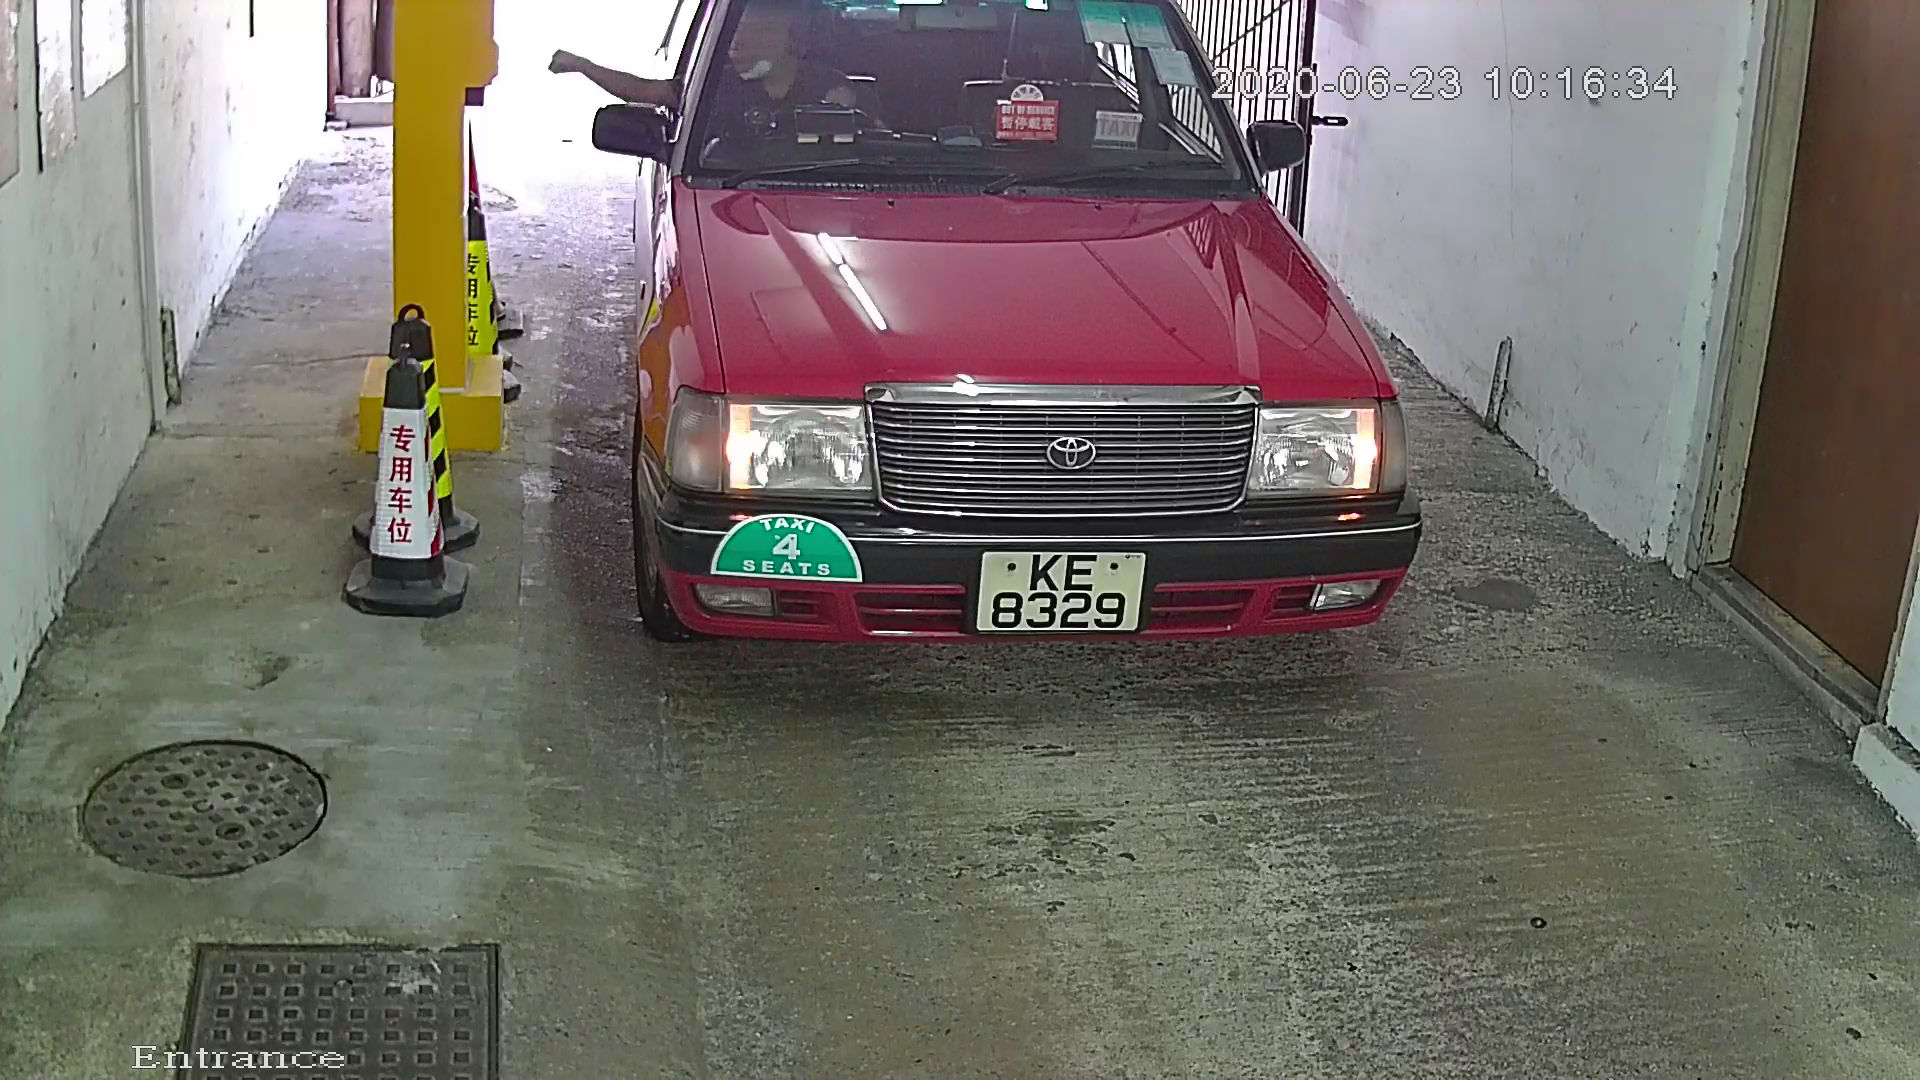taxi: (580, 3, 1445, 760)
taxi_mark: (690, 477, 899, 622)
